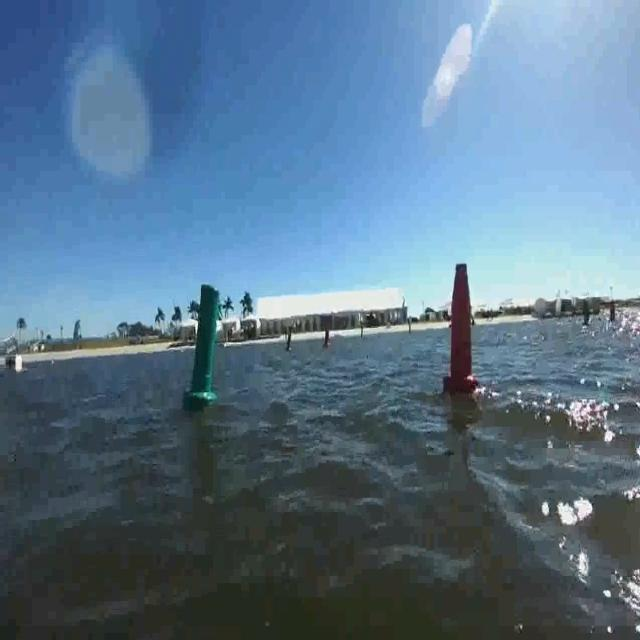green-column-buoy: (186, 282, 221, 407)
red-column-buoy: (442, 261, 478, 399)
